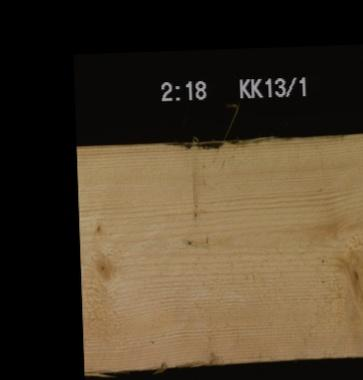small_knot: (86, 216, 108, 236)
sound_knot: (87, 248, 113, 286)
